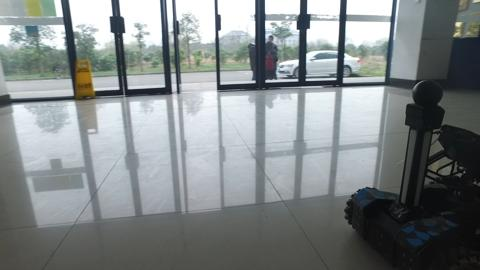chariot: (343, 66, 479, 270)
